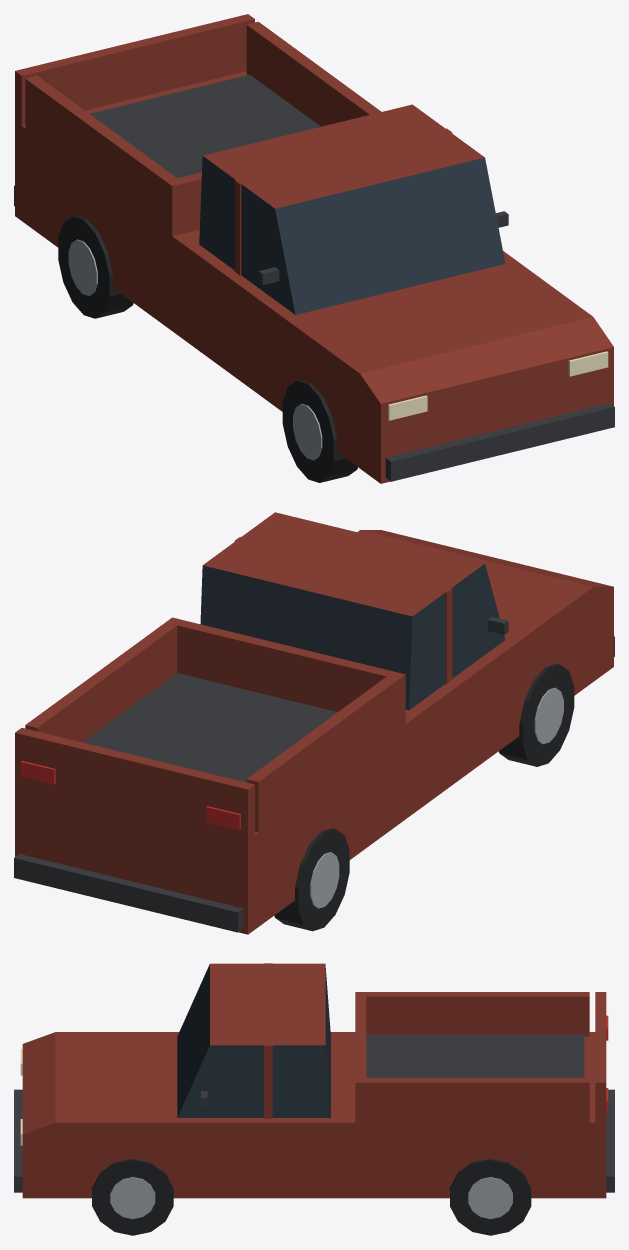
File: pickup.glb
3 renders of one model, top to bottom at view 1: azimuth 30°, elevation 25°; view 2: azimuth 150°, elevation 25°; view 3: azimuth 270°, elevation 25°, orthographic. The views are drawn at different scales.
Parts seen in each view (by area): view 1: Body, Wheel_FR, Wheel_RR; view 2: Body, Wheel_FR, Wheel_RR; view 3: Body, Wheel_FL, Wheel_RL.
Boxes of the visible parts, x1,y1,x2,y2 form: Body: [14, 14, 614, 483]; Wheel_FR: [282, 380, 357, 482]; Wheel_RR: [58, 215, 133, 318]; Body: [14, 512, 614, 934]; Wheel_FR: [499, 664, 574, 766]; Wheel_RR: [274, 828, 349, 931]; Body: [14, 963, 614, 1198]; Wheel_FL: [92, 1158, 173, 1235]; Wheel_RL: [450, 1158, 531, 1235].
Bounding box in the file's own units: 2.06 × 1.85 × 5.46.
